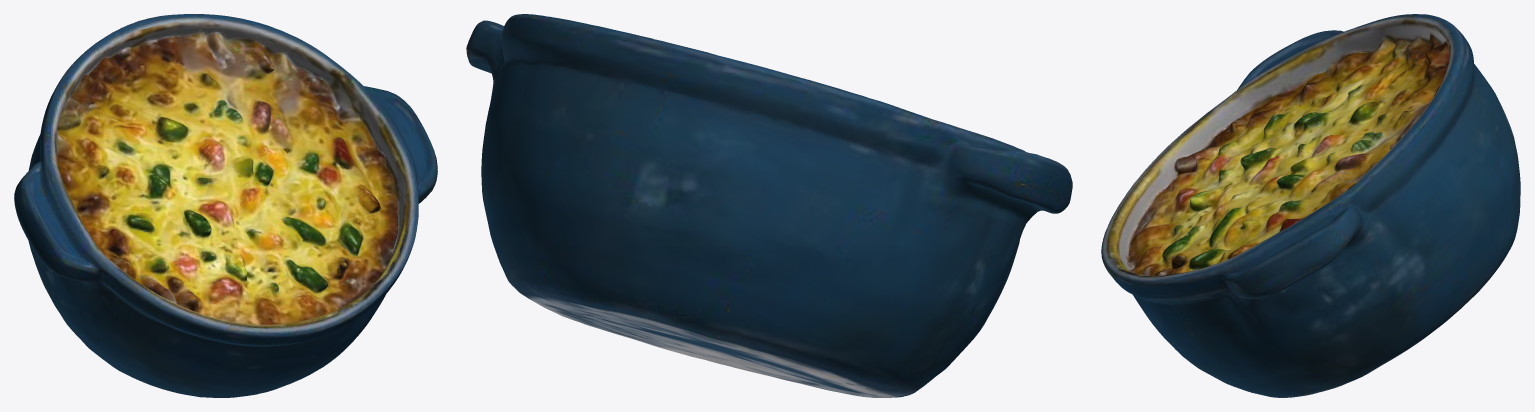
The model's file is agatha_biggest.glb.
3 renders of one model, left to right at view 1: azimuth 30°, elevation 25°; view 2: azimuth 150°, elevation 25°; view 3: azimuth 270°, elevation 25°, orthographic. The views are drawn at different scales.
Size of the model in its own units: 0.8436 by 0.6174 by 0.7179.
1 material, 1 textured.
